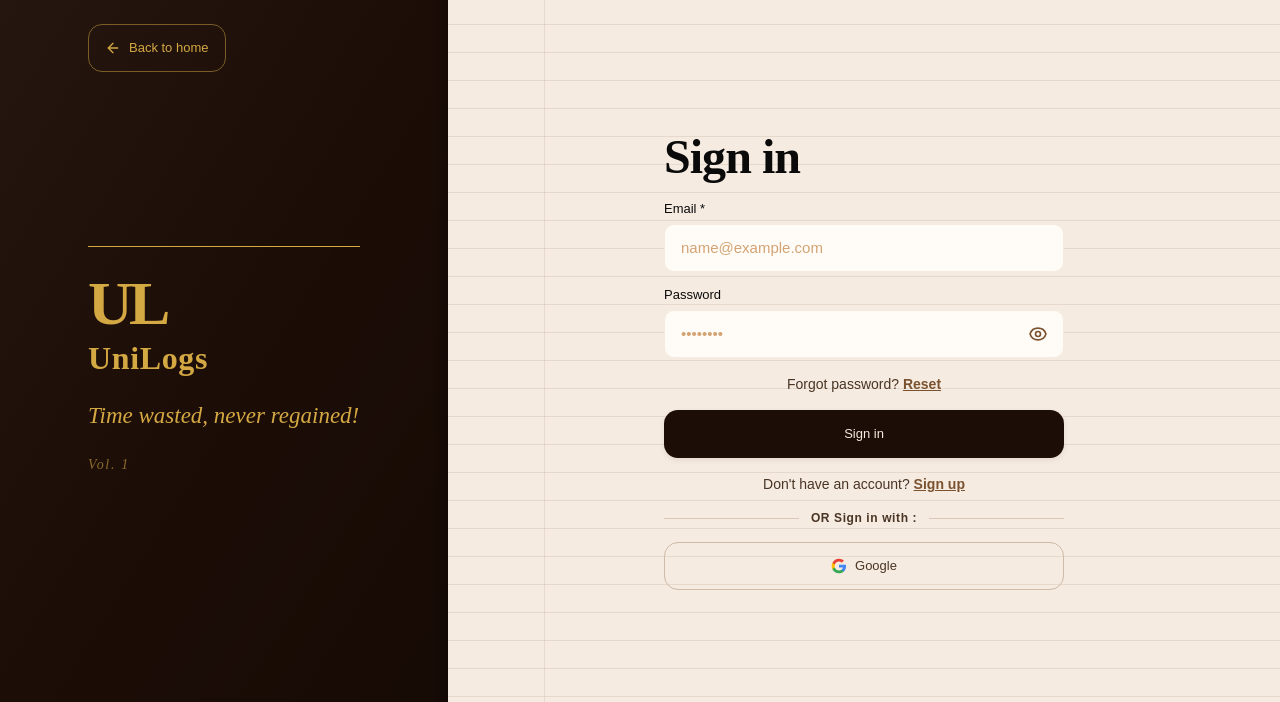
Scenario: auth back links › sign in → sign up offers "Back to sign in", which leads back to sign in
Click the link "Sign up". click: (939, 484)
box: [914,476,965,492]
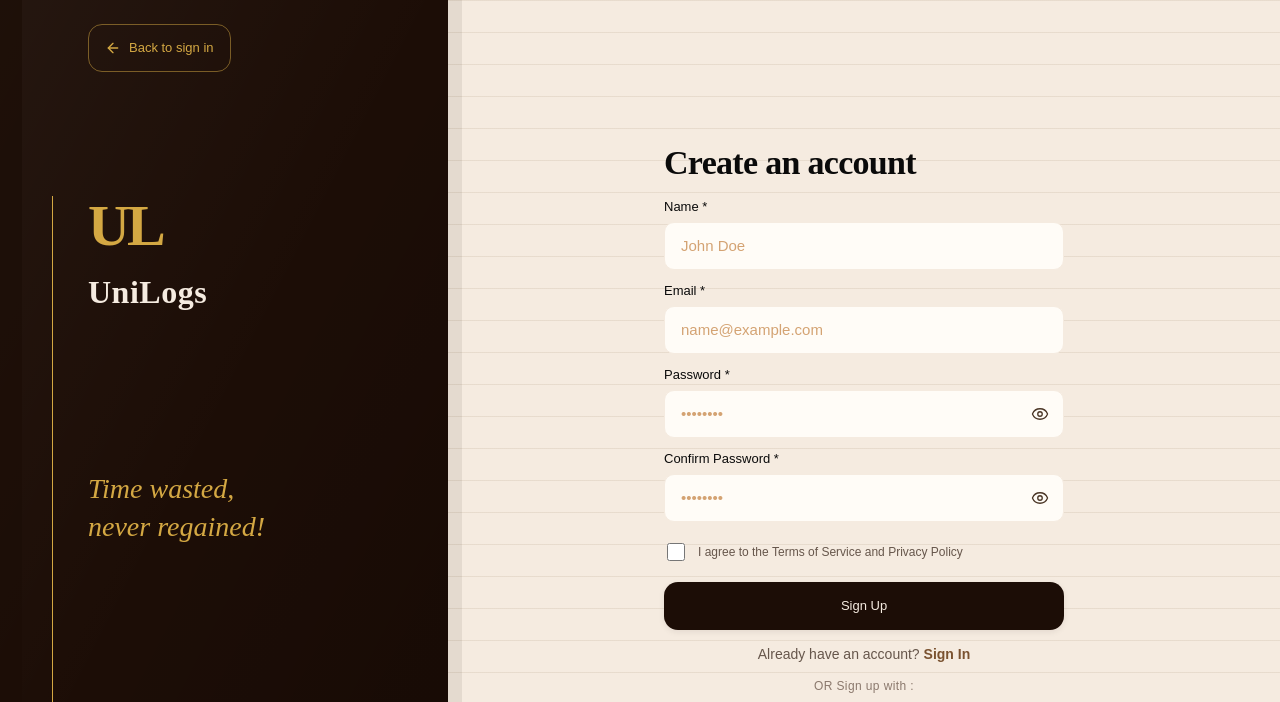
Result: the link "Back to sign in" is shown
Click the link "Back to sign in". click: (159, 48)
box: [88,24,230,72]
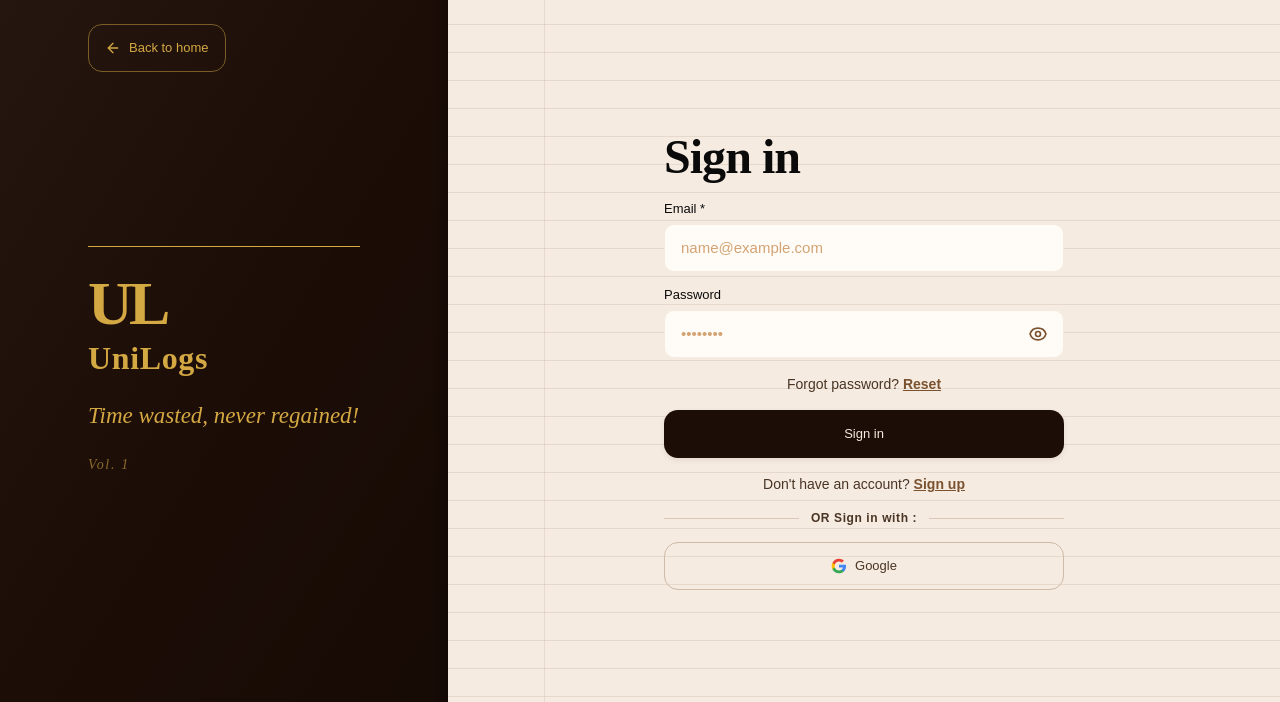
Result: the heading "Sign in" is shown at [664,130,800,183]
Result: the link "Back to home" is shown at [88,24,226,72]
